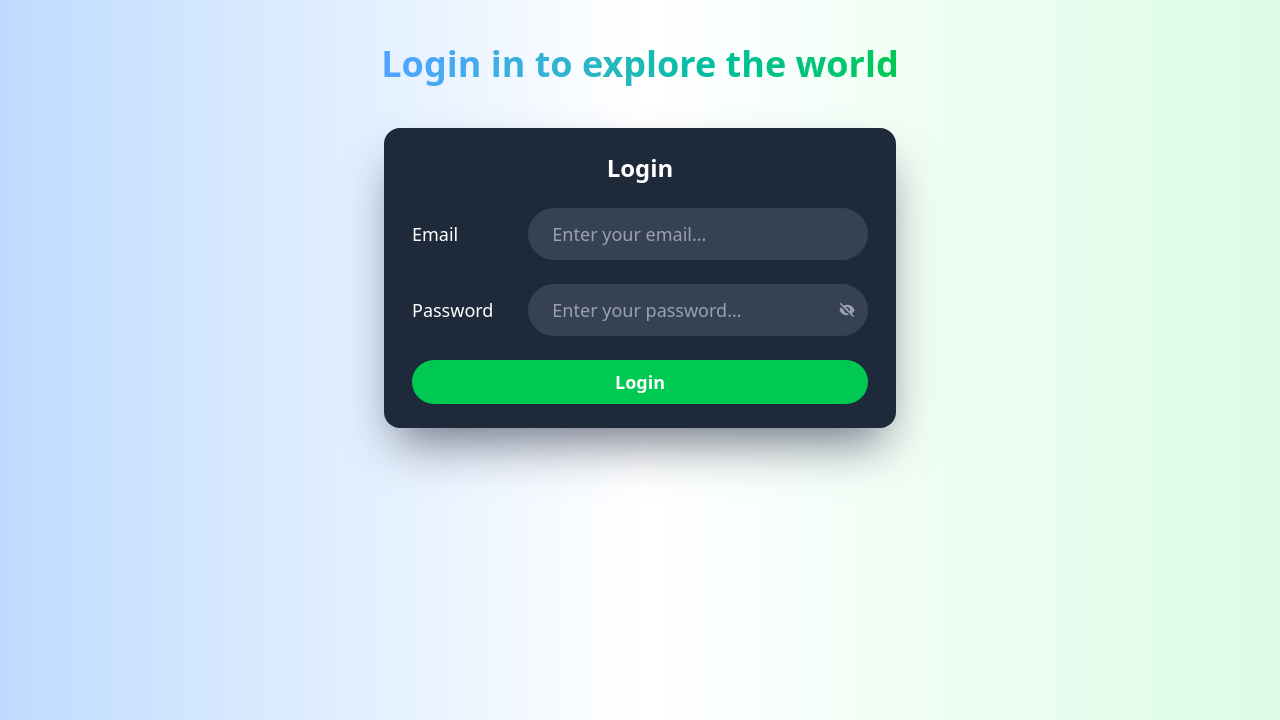
Test: Login Page › shows validation errors when inputs are empty
The width and height of the screenshot is (1280, 720).
Click the button "Login": (640, 382) [412,360,868,404]
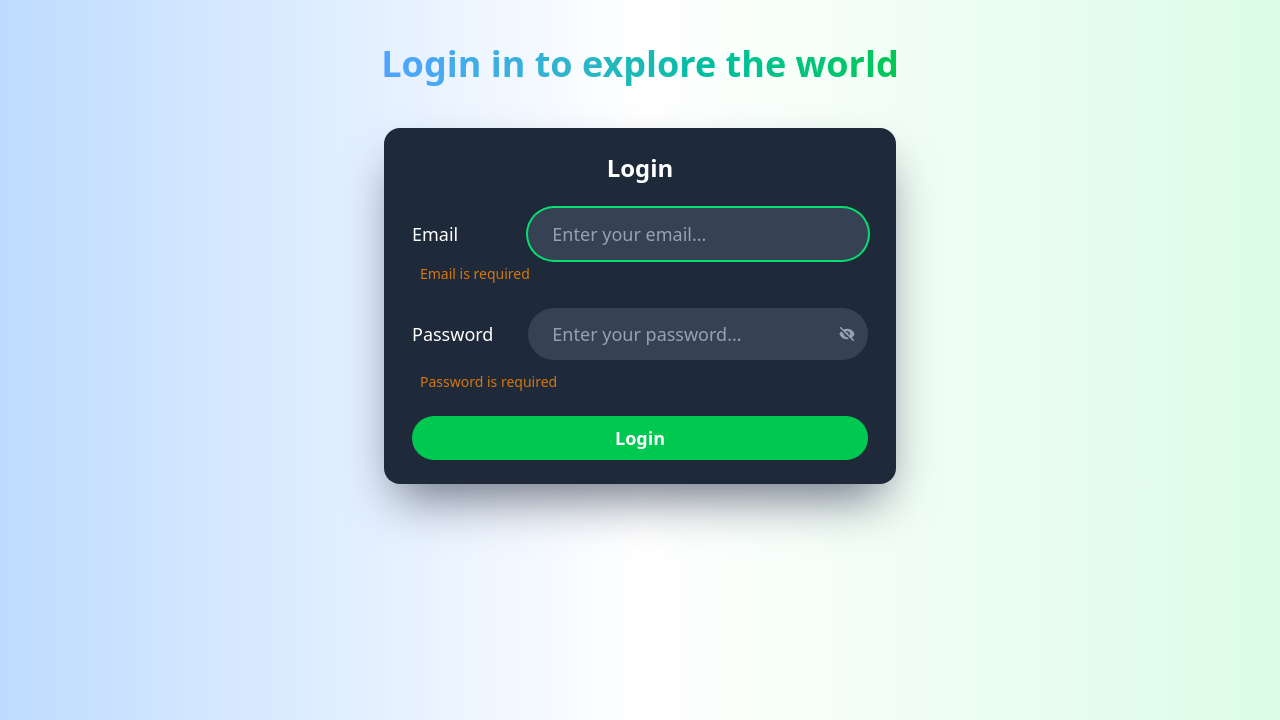
Now the text "Email is required" is shown, box [420,264,530,283]
Now the text "Password is required" is shown, box [420,372,557,391]
